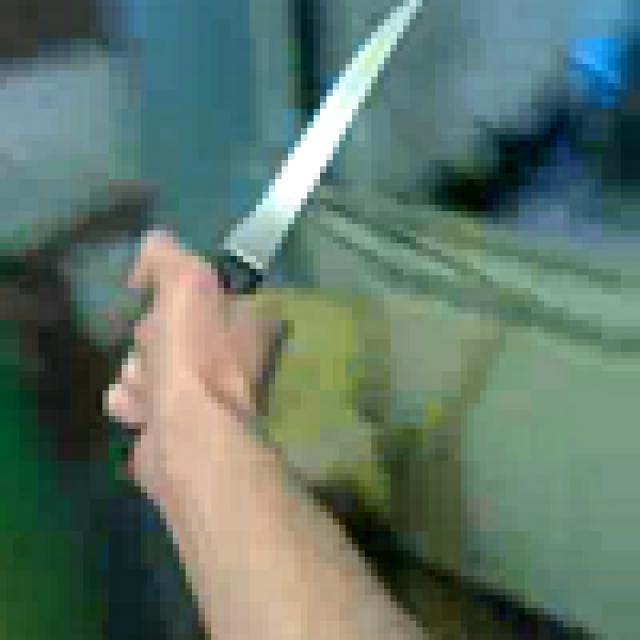Knife: (102, 0, 448, 429)
